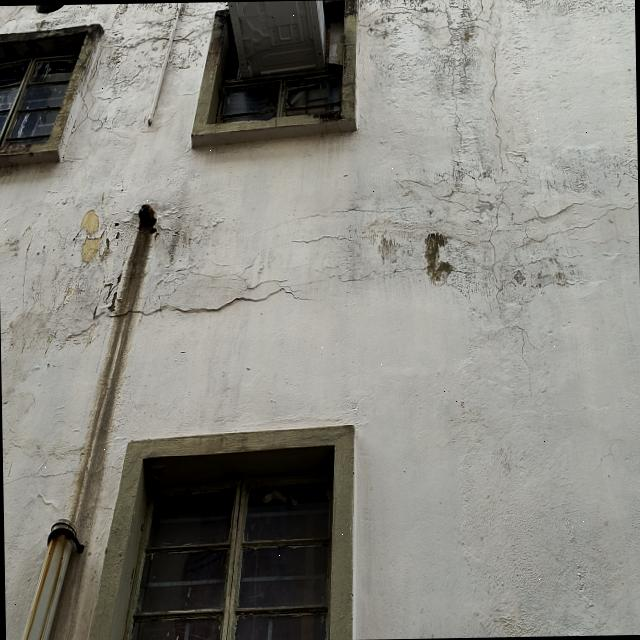Crack: (268, 0, 640, 410)
